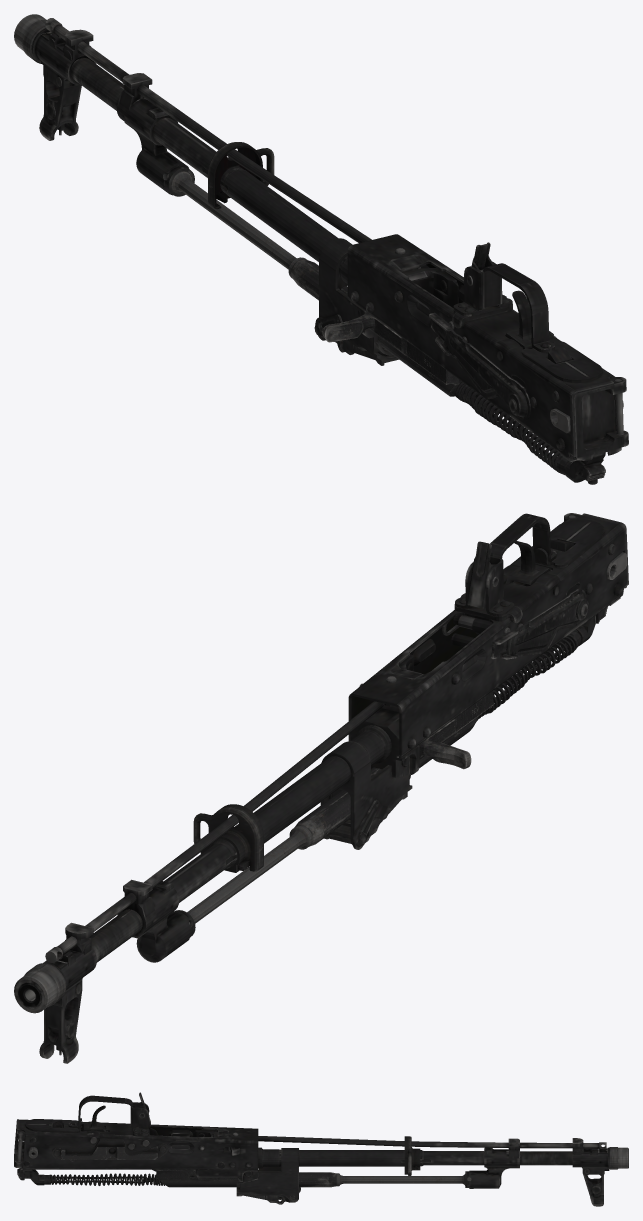
3 renders of one model, top to bottom at view 1: azimuth 30°, elevation 25°; view 2: azimuth 150°, elevation 25°; view 3: azimuth 270°, elevation 25°, orthographic. The views are drawn at different scales.
Parts seen in each view (by area): view 1: TW_5ac66d2e5acfc43b321d4b53_PZ_Import; view 2: TW_5ac66d2e5acfc43b321d4b53_PZ_Import; view 3: TW_5ac66d2e5acfc43b321d4b53_PZ_Import.
Part boxes in pixels (bbox=[...]): TW_5ac66d2e5acfc43b321d4b53_PZ_Import: bbox=[14, 14, 628, 484]; TW_5ac66d2e5acfc43b321d4b53_PZ_Import: bbox=[14, 513, 628, 1063]; TW_5ac66d2e5acfc43b321d4b53_PZ_Import: bbox=[14, 1092, 628, 1206].
Size of the model in its own units: 0.0424 by 0.373 by 0.0735.
Materials: 1 (1 with a texture image).
